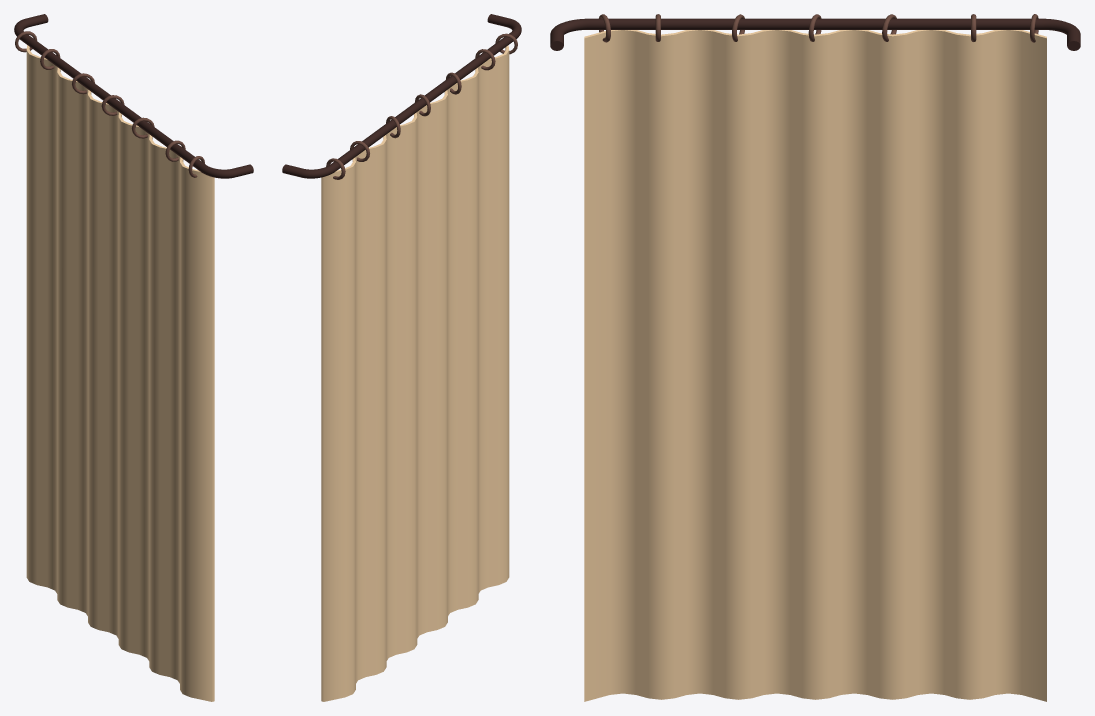
The model's file is Curtain05.fbx.
3 views of the same model, side by side, from view 1: azimuth 30°, elevation 25°; view 2: azimuth 150°, elevation 25°; view 3: azimuth 270°, elevation 25° (orthographic). The views are drawn at different scales.
Parts seen in each view (by area): view 1: Curtain05; view 2: Curtain05; view 3: Curtain05.
Boxes of the visible parts, left/top/right/bottom form: Curtain05: left=14, top=14, right=253, bottom=701; Curtain05: left=282, top=14, right=521, bottom=701; Curtain05: left=550, top=14, right=1080, bottom=701.
Bounding box in the file's own units: 0.2323 × 1.86 × 2.64.
